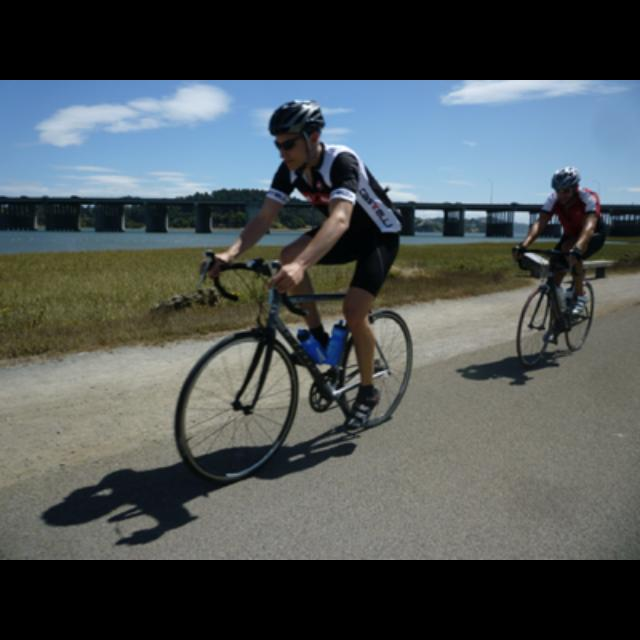With Helmet: (261, 96, 333, 174), (548, 162, 584, 204)
